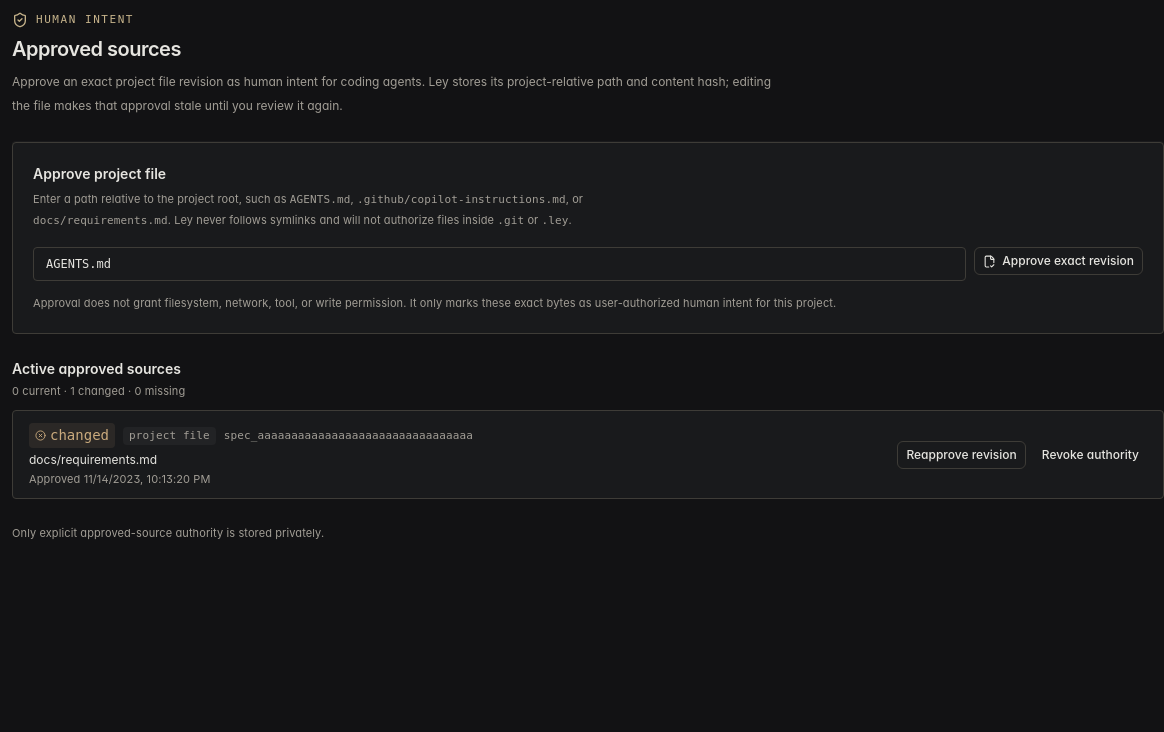
it: SpecificationsPanel › reapproves and revokes a changed project-file authority
Expected: the button "Open externally" is not shown
Click the button "Reapprove revision" at {"x": 962, "y": 454}, box top-left (897, 440), bottom-right (1026, 468)
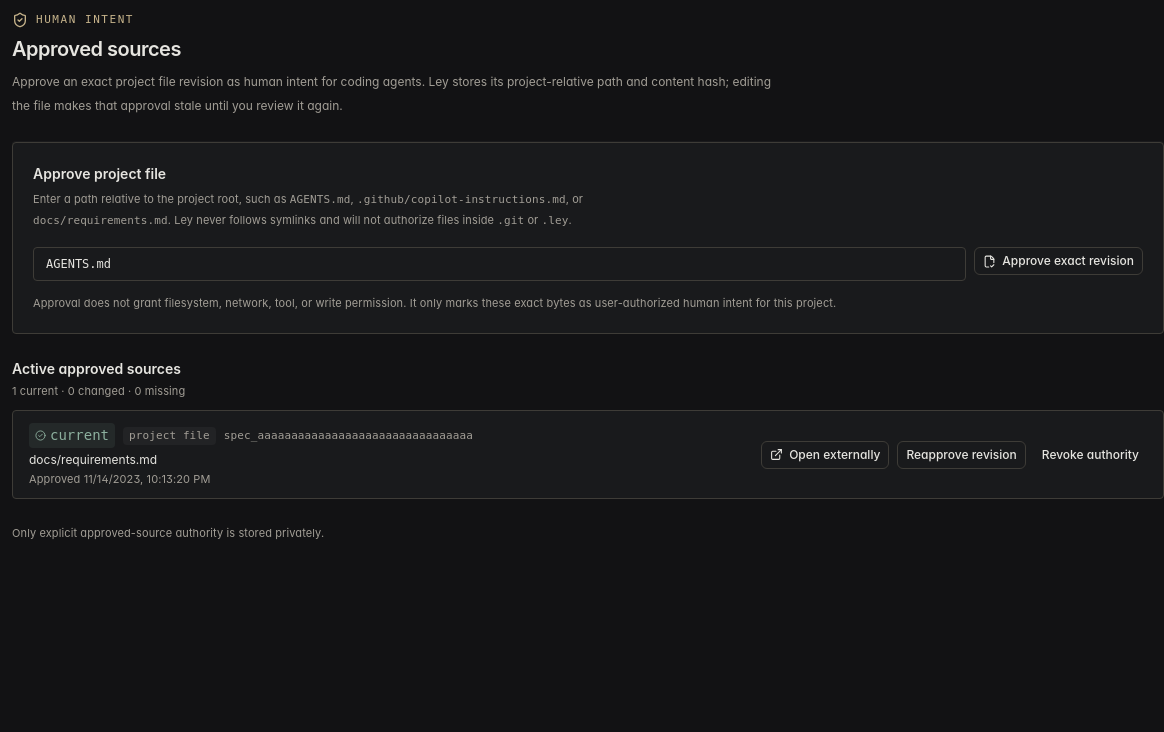
Click the button "Revoke authority" at {"x": 1090, "y": 454}, box top-left (1034, 440), bottom-right (1147, 468)
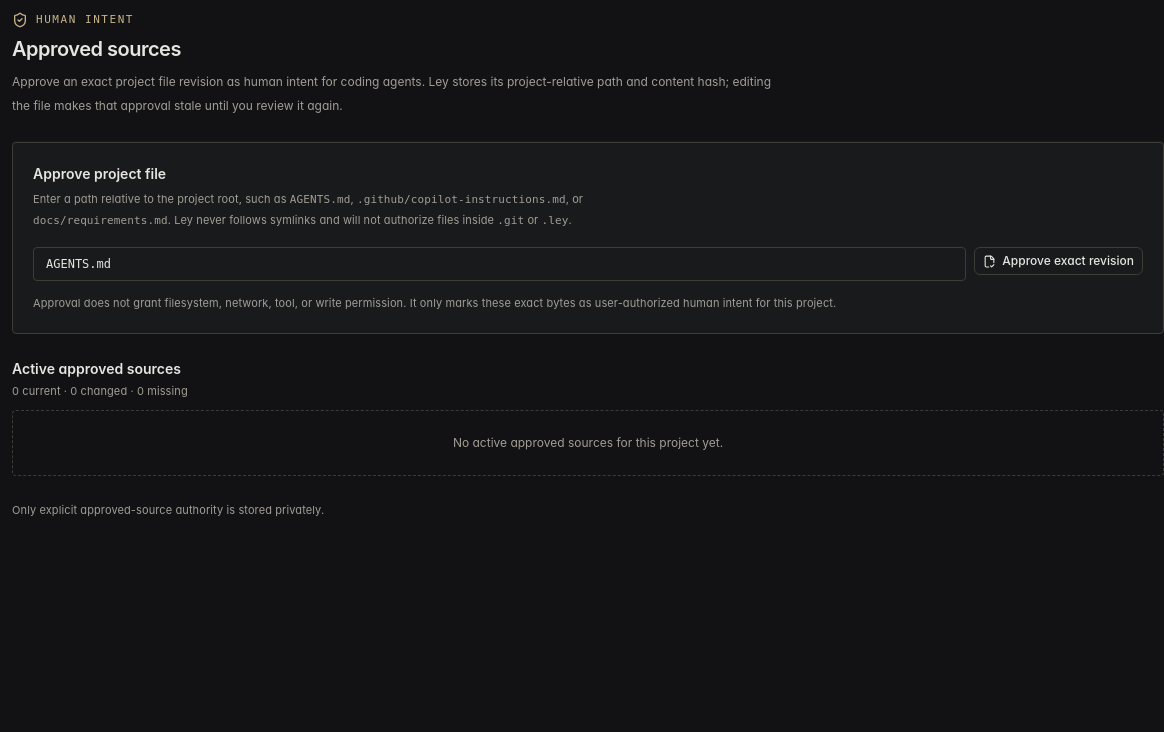
Result: the text "No active approved sources for this project yet." is shown at top-left (12, 410), bottom-right (1163, 476)
